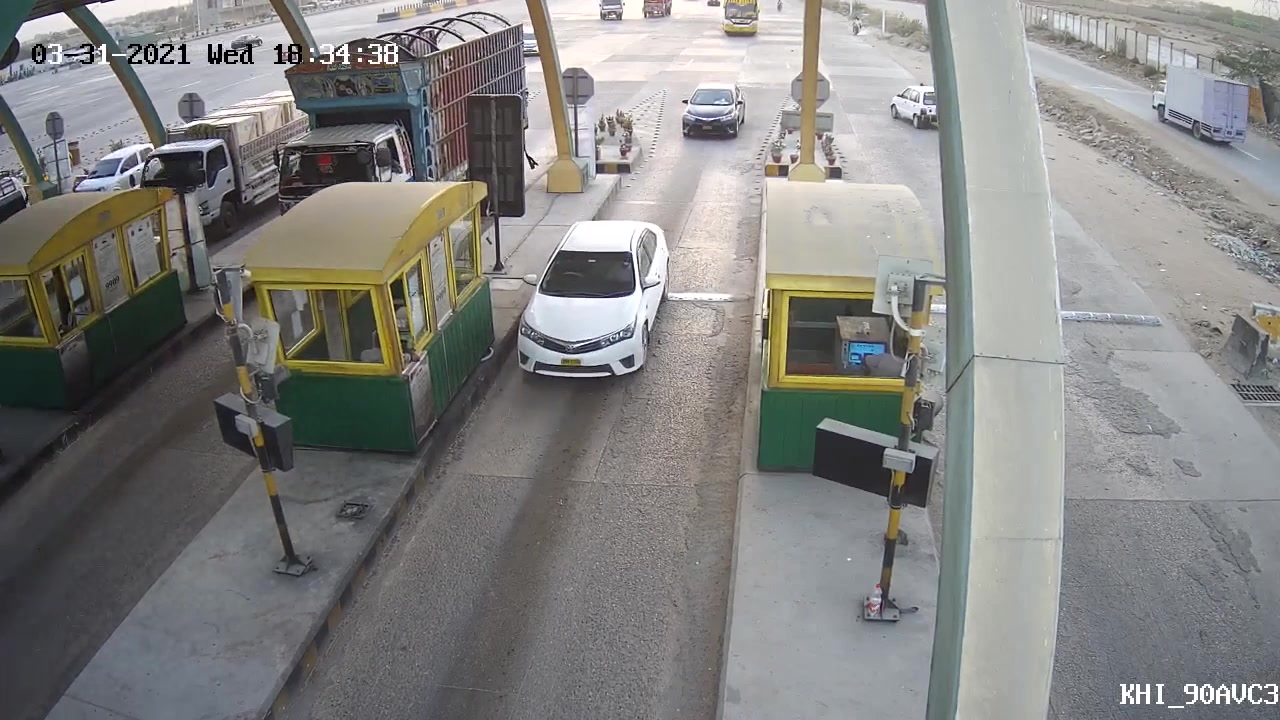F1: (499, 203, 675, 396)
